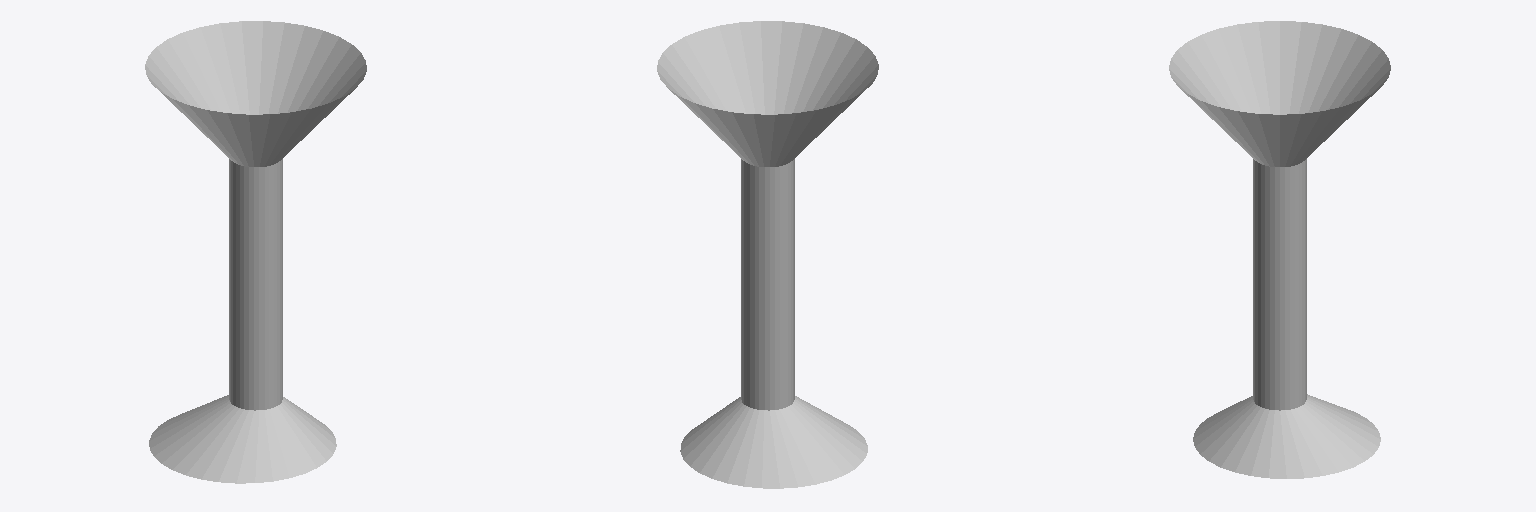
Rendered from silla.obj.
The picture shows the model from 3 angles: view 1: azimuth 30°, elevation 25°; view 2: azimuth 150°, elevation 25°; view 3: azimuth 270°, elevation 25°; orthographic projection.
Bounding box in the file's own units: 0.3821 × 0.7137 × 0.3821.